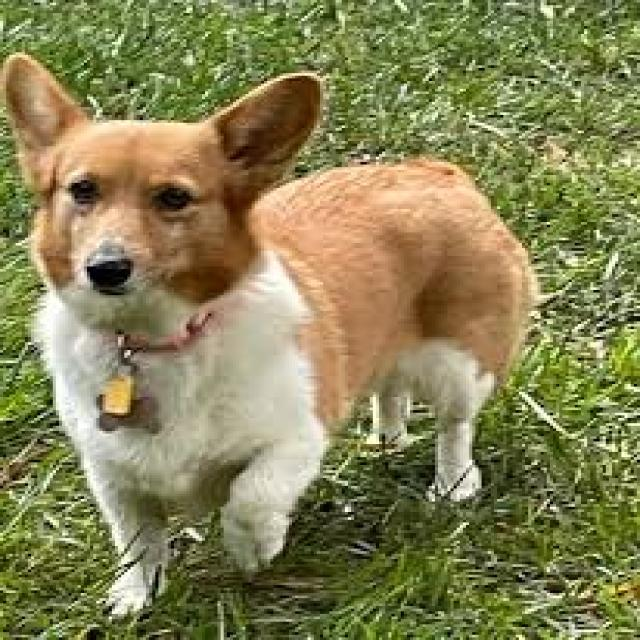CORGI: (0, 44, 528, 622)
